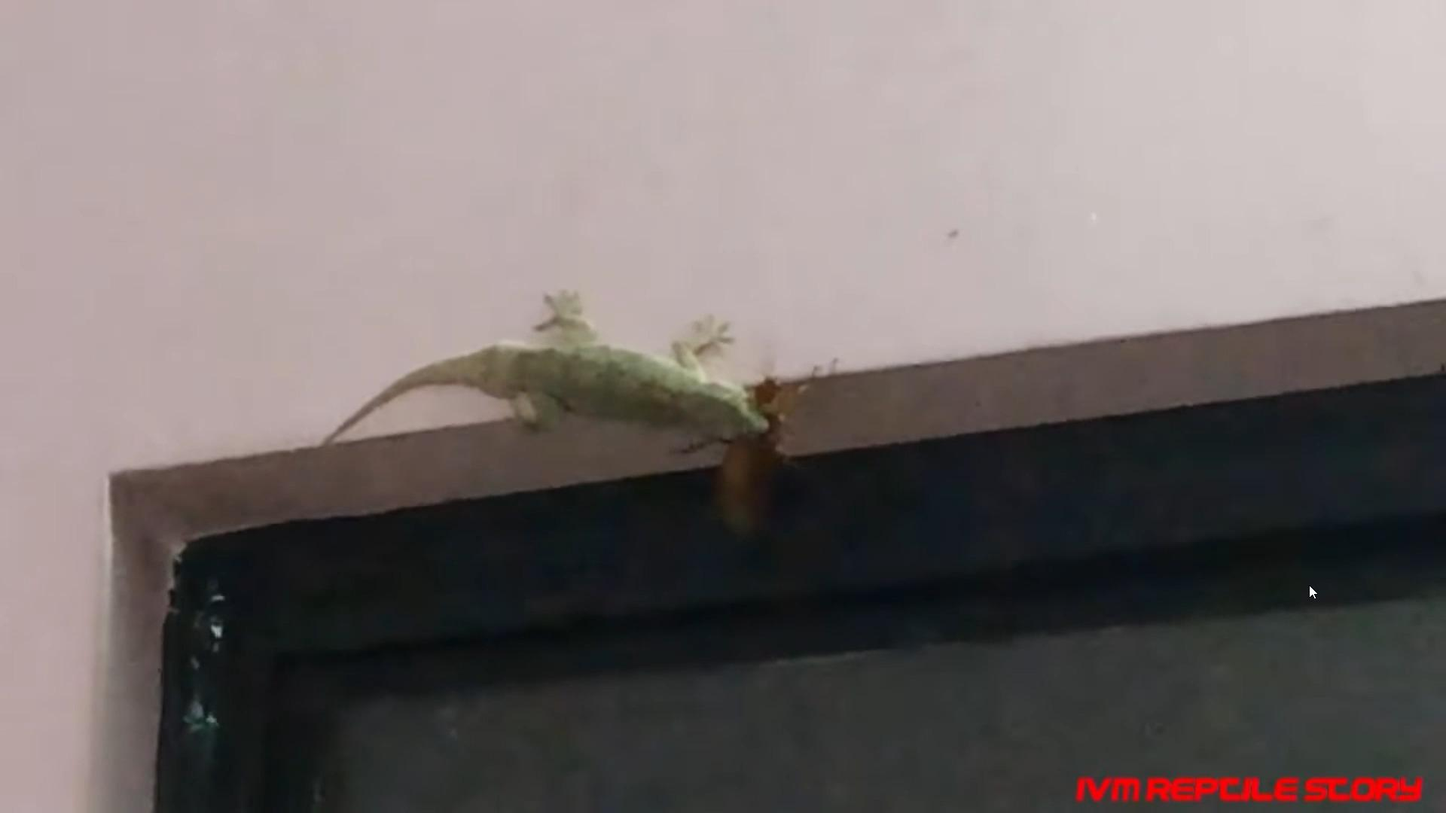cockroach: (717, 380, 794, 532)
lizard: (310, 274, 765, 465)
